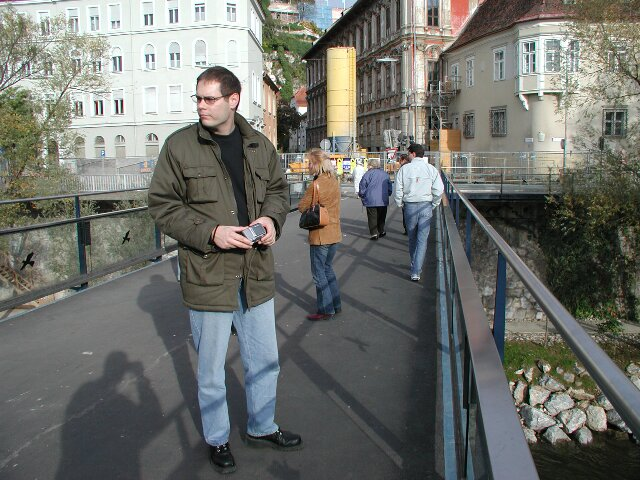person: (153, 62, 321, 468), (295, 146, 348, 323), (394, 140, 451, 290), (354, 152, 394, 250)
